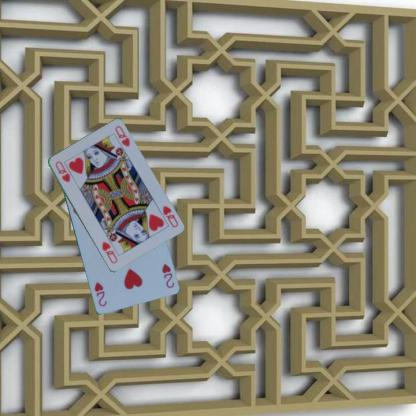2h: (159, 260, 175, 289)
Qh: (52, 158, 71, 184), (160, 203, 179, 229)
